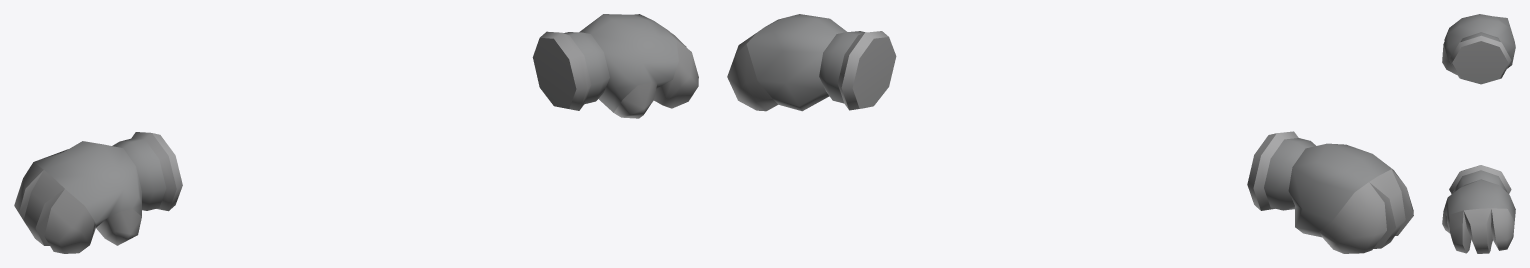
Rendered from Glove_12.fbx.
The picture shows the model from 3 angles, left to right: view 1: azimuth 30°, elevation 25°; view 2: azimuth 150°, elevation 25°; view 3: azimuth 270°, elevation 25°; orthographic projection. The views are drawn at different scales.
Visible parts, largest first — view 1: Glove_12; view 2: Glove_12; view 3: Glove_12.
Boxes of the visible parts, <box> form: Glove_12: <box>14,14,698,253</box>; Glove_12: <box>727,14,1413,253</box>; Glove_12: <box>1442,14,1515,253</box>.
Bounding box in the file's own units: 135 × 17.79 × 20.33.
